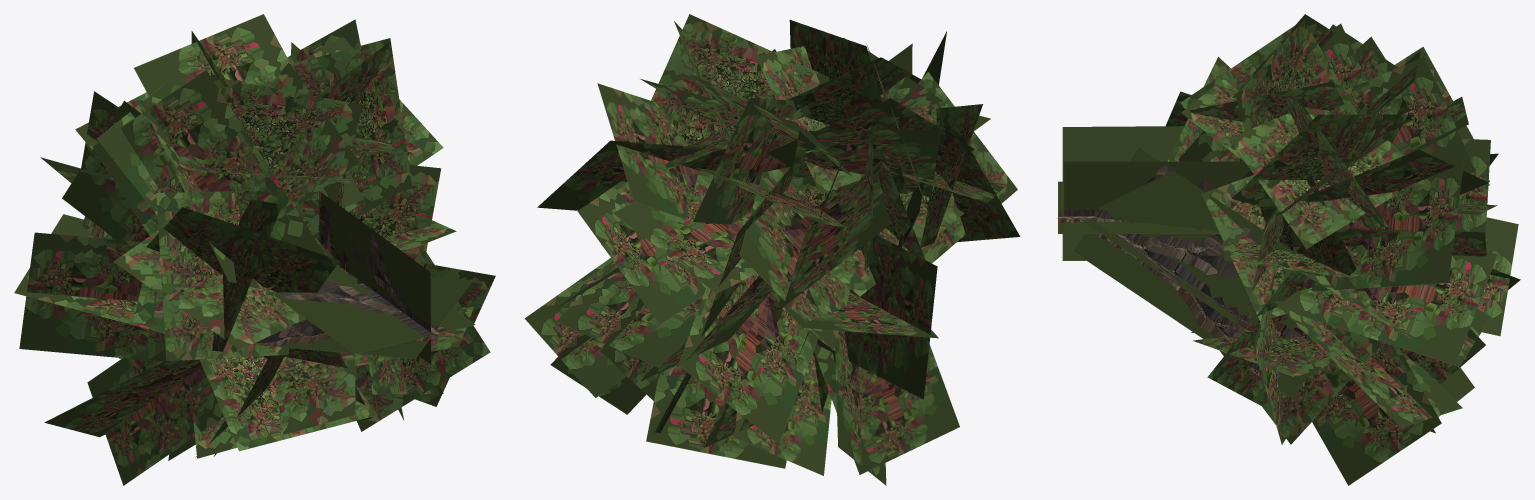
Rendered from Bush1.fbx.
3 renders of one model, left to right at view 1: azimuth 30°, elevation 25°; view 2: azimuth 150°, elevation 25°; view 3: azimuth 270°, elevation 25°, orthographic. The views are drawn at different scales.
Parts seen in each view (by area): view 1: Bush1; view 2: Bush1; view 3: Bush1.
Part boxes in pixels (bbox=[...]): Bush1: bbox=[14, 14, 495, 485]; Bush1: bbox=[524, 14, 1020, 485]; Bush1: bbox=[1057, 14, 1520, 485].
Bounding box in the file's own units: 28.69 × 26.97 × 30.52.
